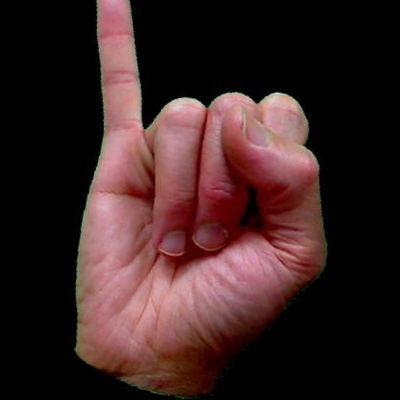i: (1, 1, 398, 391)
